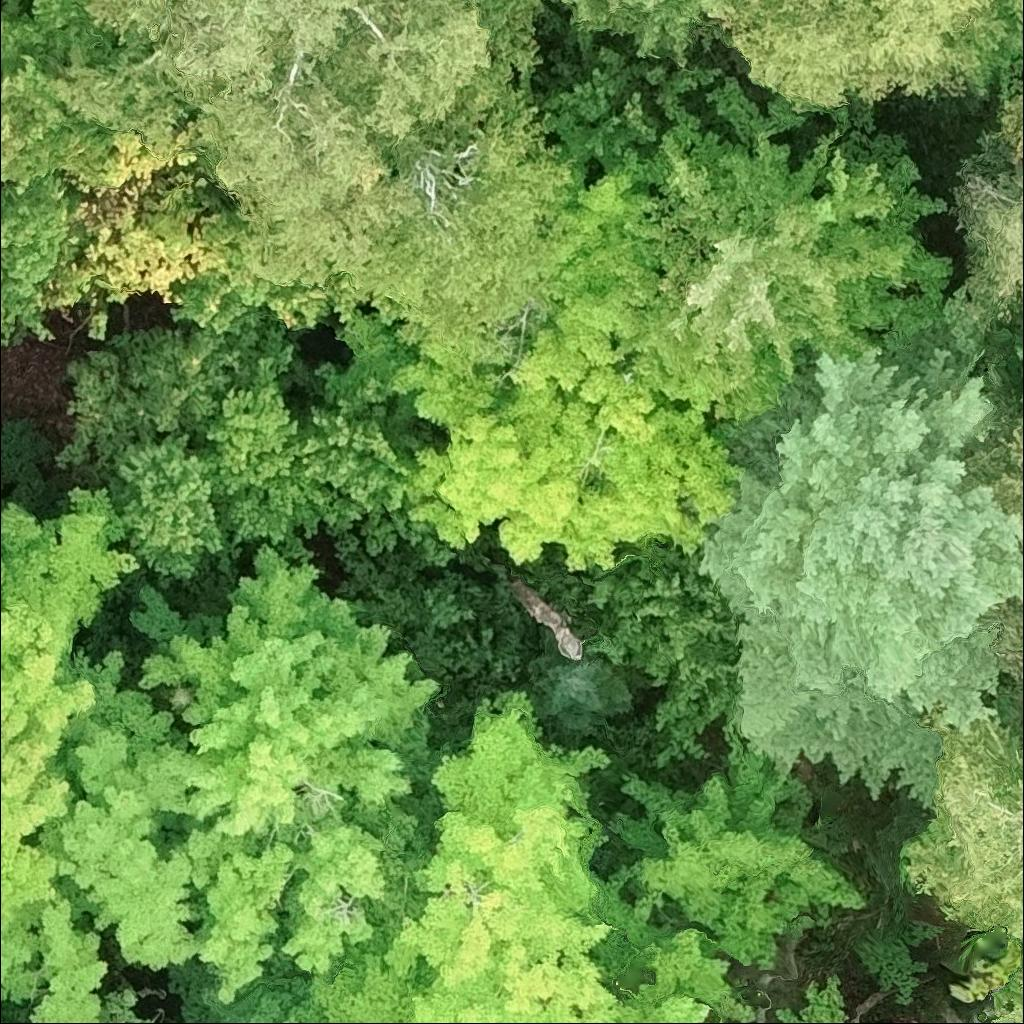crown: (316, 149, 746, 579), (699, 325, 1023, 818), (172, 689, 638, 1023), (130, 542, 442, 1008), (589, 74, 952, 461), (0, 649, 208, 1023), (599, 745, 871, 973), (351, 102, 578, 375), (0, 485, 145, 910), (189, 64, 426, 291), (320, 0, 547, 170), (74, 0, 386, 118), (578, 541, 735, 773), (725, 0, 1023, 115), (53, 324, 254, 471), (896, 716, 1023, 947), (200, 345, 327, 560), (527, 42, 724, 175), (91, 431, 227, 584), (296, 395, 424, 557), (612, 904, 756, 1023), (948, 132, 1023, 323), (547, 0, 737, 67), (0, 5, 66, 190), (515, 649, 633, 749), (168, 273, 295, 363), (961, 414, 1023, 514), (988, 603, 1023, 692), (999, 74, 1023, 158), (992, 963, 1023, 1023), (1007, 323, 1023, 414), (751, 0, 760, 2)
